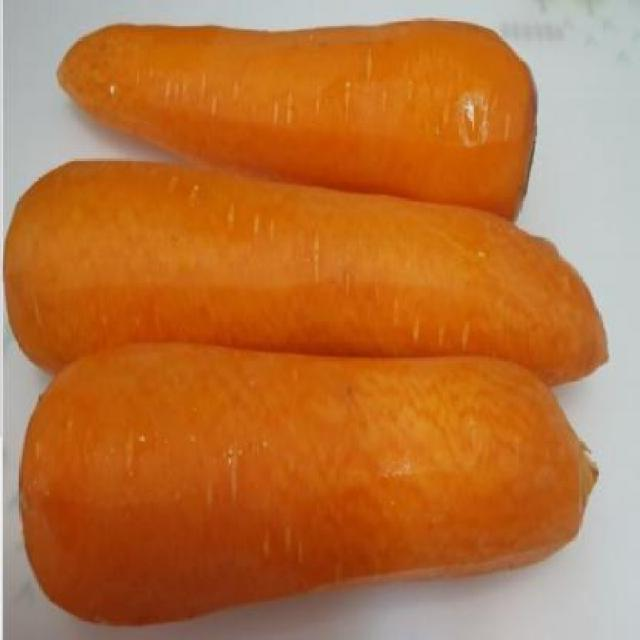carrot: (16, 338, 600, 636), (1, 152, 614, 398), (52, 9, 541, 228)
